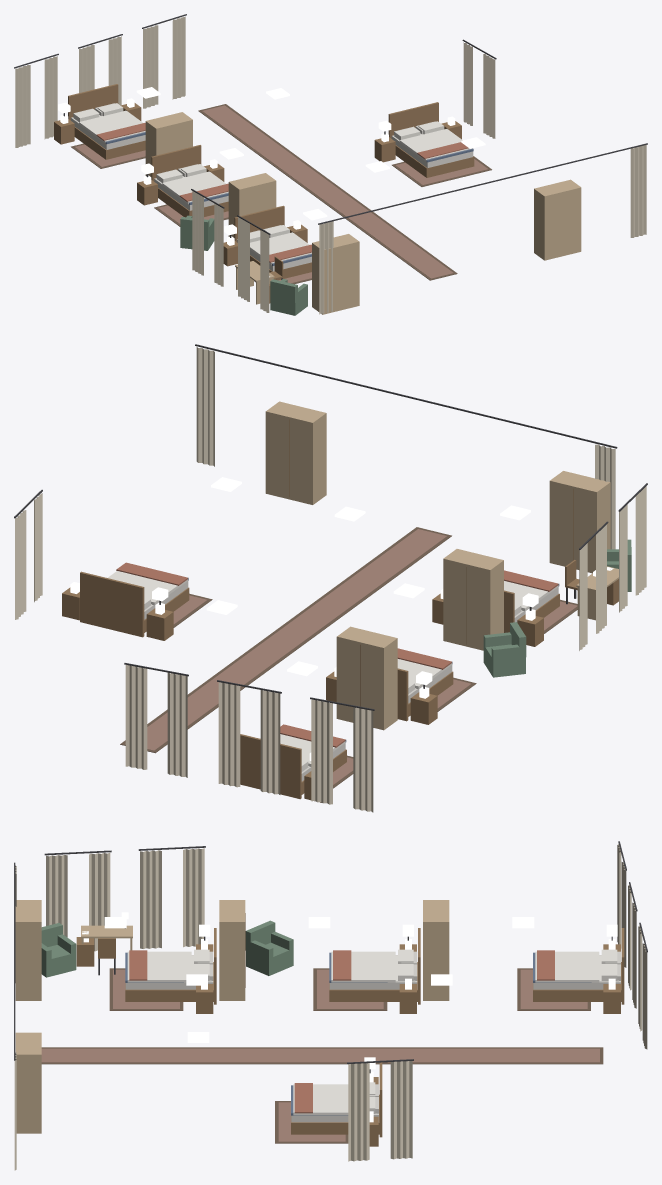
The model's file is fine-s3.glb.
3 views of the same model, one above another, from view 1: azimuth 30°, elevation 25°; view 2: azimuth 150°, elevation 25°; view 3: azimuth 270°, elevation 25° (orthographic). The views are drawn at different scales.
Visible parts, largest first — view 1: soft-s3, dresser.008, dresser.011, bed-frame.008, bed-frame.009, bed-frame.010, dresser.010, dresser.009, bed-frame.011, lounge-chair.005, lounge-chair.004, nightstand.016 (+3 smaller); view 2: soft-s3, dresser.008, dresser.009, dresser.010, dresser.011, bed-frame.008, bed-frame.009, lounge-chair.004, bed-frame.010, bed-frame.011, nightstand.020, nightstand.016 (+2 smaller); view 3: soft-s3, dresser.010, dresser.011, dresser.008, dresser.009, lounge-chair.004, bed-frame.009, bed-frame.010, bed-frame.011, bed-frame.008, lounge-chair.005, writing-desk.002 (+4 smaller).
Boxes of the visible parts, x1,y1,x2,y2 form: soft-s3: (14,14,647,314); dresser.008: (534,179,581,260); dresser.011: (312,234,359,314); bed-frame.008: (388,102,474,177); bed-frame.009: (68,84,145,159); bed-frame.010: (151,145,228,217); dresser.010: (228,173,276,237); dresser.009: (145,112,192,176); bed-frame.011: (234,205,311,280); lounge-chair.005: (270,279,307,315); lounge-chair.004: (180,215,214,250); nightstand.016: (374,133,395,162); soft-s3: (14,344,647,812); dresser.008: (265,401,326,504); dresser.009: (336,626,397,730); dresser.010: (443,549,503,650); dresser.011: (549,471,610,573); bed-frame.008: (80,571,189,637); bed-frame.009: (240,734,346,799); lounge-chair.004: (483,622,526,677); bed-frame.010: (397,661,453,721); bed-frame.011: (504,584,559,632); nightstand.020: (410,686,437,724); nightstand.016: (146,602,173,640); soft-s3: (14,841,647,1170); dresser.010: (219,900,245,1000); dresser.011: (15,900,41,1000); dresser.008: (15,1032,41,1133); dresser.009: (423,900,449,1000); lounge-chair.004: (245,920,293,975); bed-frame.009: (533,928,624,1004); bed-frame.010: (329,928,420,1004); bed-frame.011: (125,928,216,1004); bed-frame.008: (291,1062,382,1137); lounge-chair.005: (41,923,76,977); writing-desk.002: (81,912,132,950).
Size of the model in its own units: 12.59 by 2.88 by 14.59.
